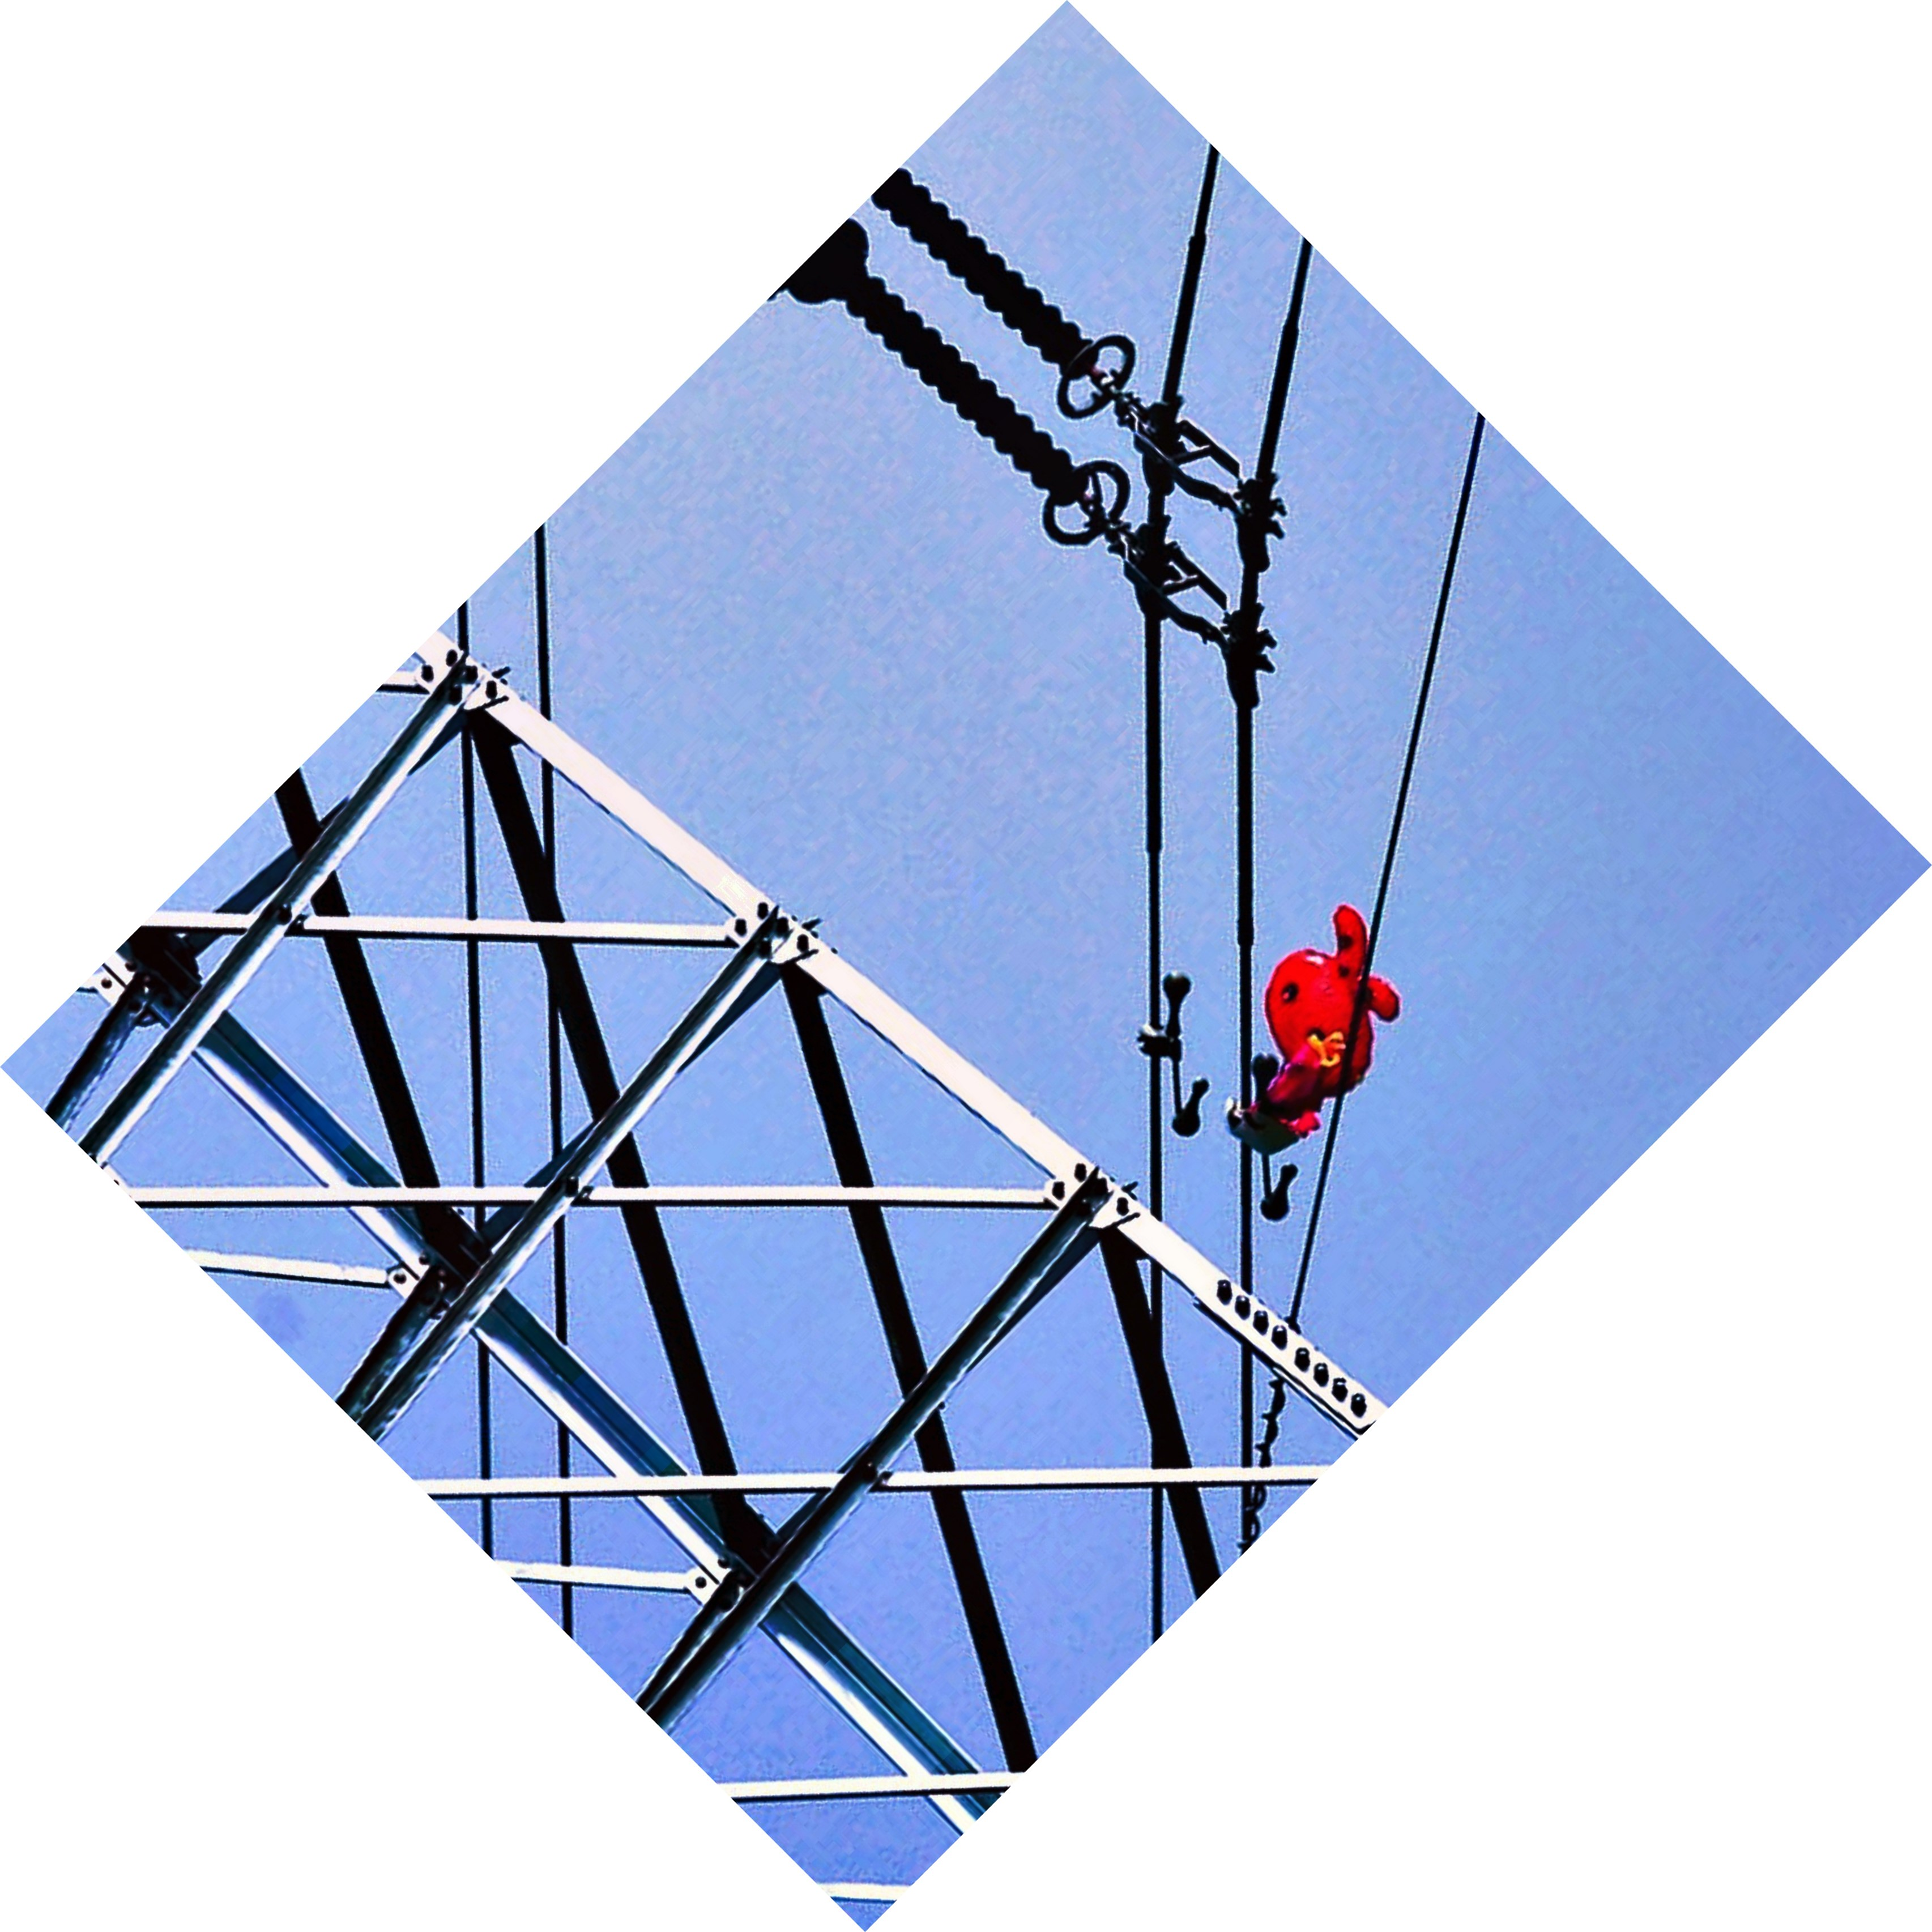wire foreign body: (1201, 881, 1437, 1169)
